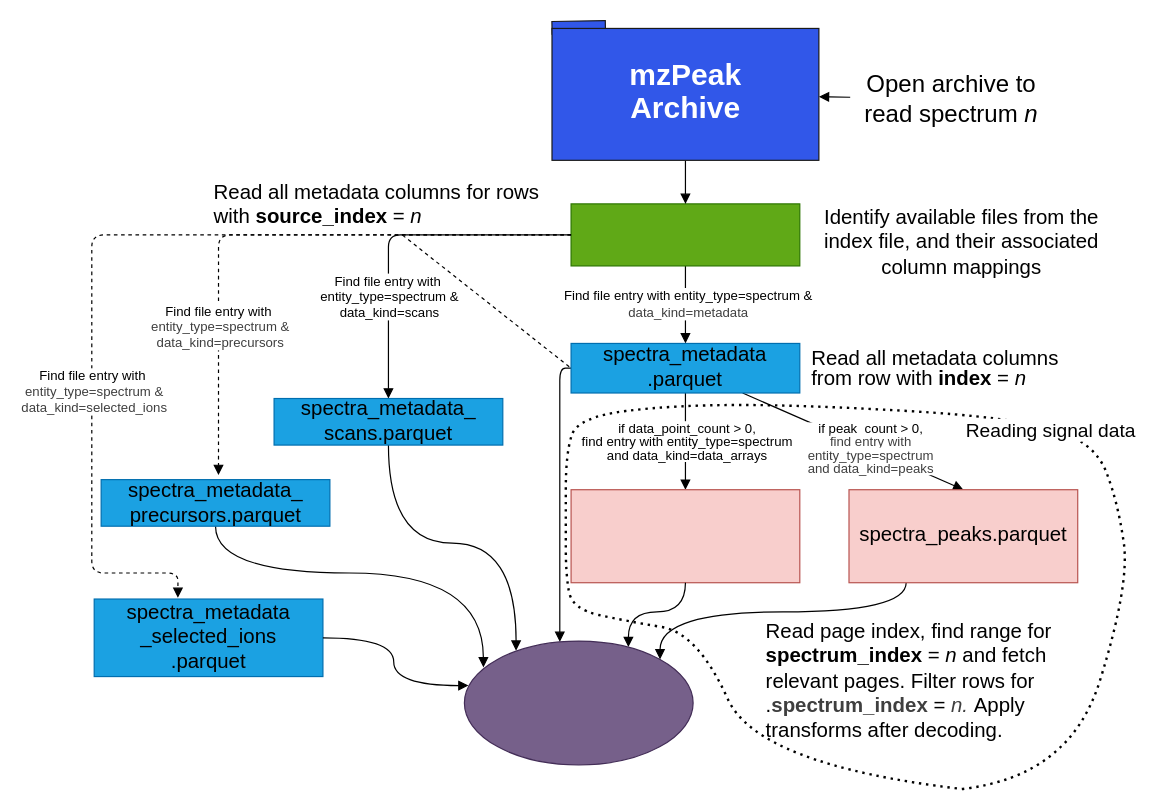
This 1156x811 diagram has some shape labels left out. The centre of each missing label's shape, as x and y in pixels:
"mzpeak_index.json" belongs at (x=685, y=234).
"spectra_data.parquet" belongs at (x=685, y=536).
"spectrum signal data plus metadata" belongs at (x=578, y=702).
